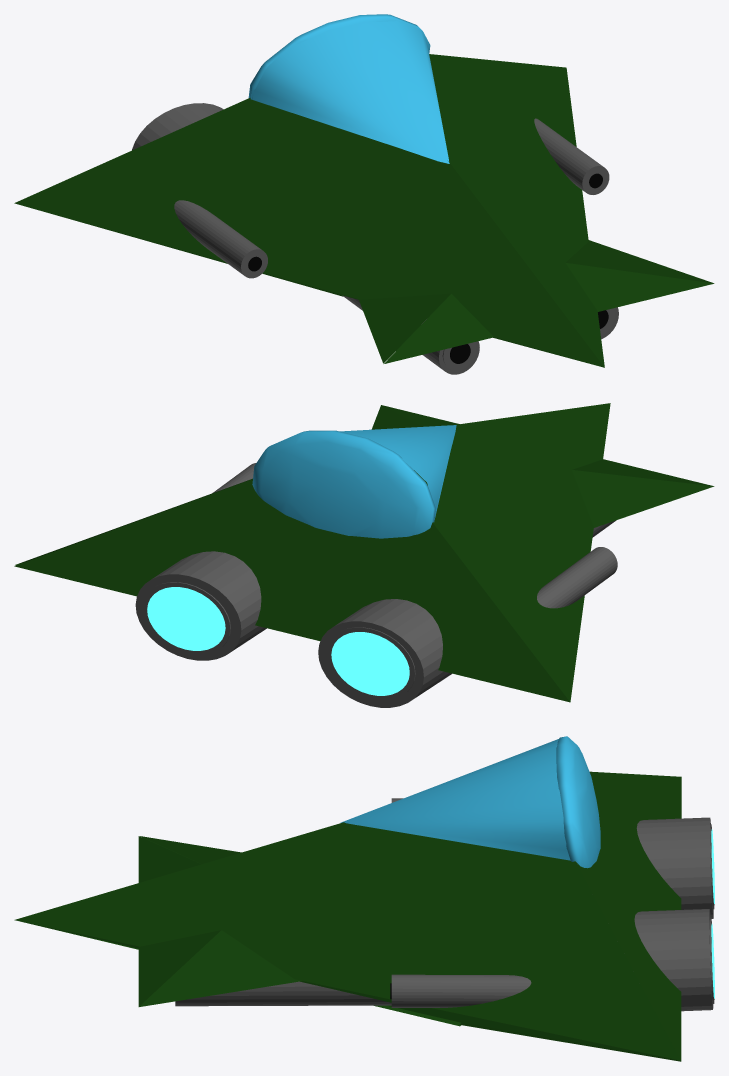
File: NaveVerdeV2.fbx
3 views of the same model, one above another, from view 1: azimuth 30°, elevation 25°; view 2: azimuth 150°, elevation 25°; view 3: azimuth 270°, elevation 25° (orthographic). The views are drawn at different scales.
Parts seen in each view (by area): view 1: Plane.001, Cone, Cylinder.002, Cylinder.003, Cylinder, Mball, Cylinder.005; view 2: Plane.001, Mball, Cylinder.001, Cylinder, Cylinder.013, Cylinder.012, Cone, Cylinder.002, Cylinder.014, Cylinder.015; view 3: Plane.001, Cone, Cylinder.001, Cylinder, Mball, Cylinder.003, Cylinder.004.
Part boxes in pixels (x1=…): Plane.001: x1=14, y1=54, x2=714, y2=367; Cone: x1=250, y1=20, x2=449, y2=163; Cylinder.002: x1=174, y1=200, x2=267, y2=278; Cylinder.003: x1=534, y1=118, x2=609, y2=194; Cylinder: x1=132, y1=103, x2=223, y2=150; Mball: x1=248, y1=14, x2=430, y2=99; Cylinder.005: x1=342, y1=295, x2=479, y2=374; Plane.001: x1=14, y1=403, x2=714, y2=702; Mball: x1=252, y1=430, x2=435, y2=538; Cylinder.001: x1=135, y1=551, x2=266, y2=660; Cylinder: x1=318, y1=599, x2=451, y2=707; Cylinder.013: x1=331, y1=632, x2=409, y2=695; Cylinder.012: x1=147, y1=587, x2=225, y2=650; Cone: x1=340, y1=425, x2=456, y2=519; Cylinder.002: x1=537, y1=547, x2=617, y2=608; Cylinder.014: x1=141, y1=582, x2=230, y2=654; Cylinder.015: x1=326, y1=627, x2=415, y2=699; Plane.001: x1=14, y1=771, x2=681, y2=1061; Cone: x1=340, y1=739, x2=570, y2=860; Cylinder.001: x1=634, y1=909, x2=713, y2=1011; Cylinder: x1=636, y1=817, x2=713, y2=918; Mball: x1=556, y1=736, x2=600, y2=868; Cylinder.003: x1=391, y1=974, x2=531, y2=1007; Cylinder.004: x1=175, y1=981, x2=391, y2=1006.
Bounding box in the file's own units: 601 × 268 × 624.
